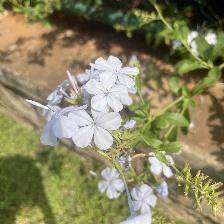chitrak: (71, 99, 122, 151), (86, 72, 132, 112), (38, 99, 69, 147), (99, 166, 126, 202), (131, 184, 158, 215), (149, 150, 174, 179)
